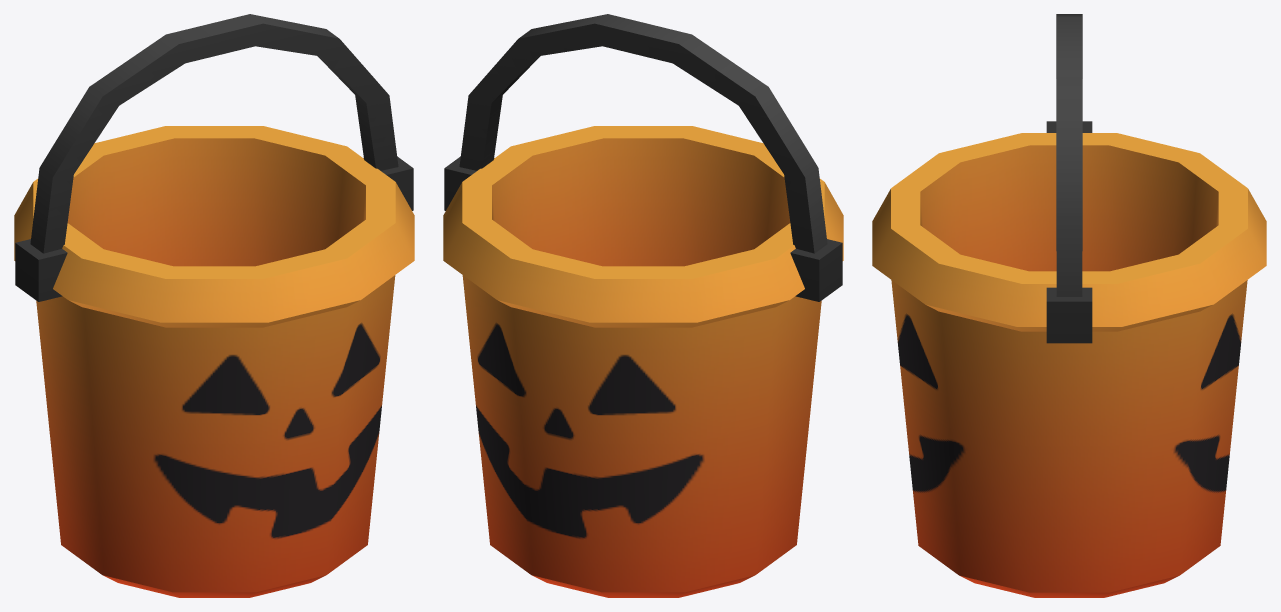
The model's file is candy_bucket_A.gltf.
The picture shows the model from 3 angles, left to right: view 1: azimuth 30°, elevation 25°; view 2: azimuth 150°, elevation 25°; view 3: azimuth 270°, elevation 25°; orthographic projection.
Parts seen in each view (by area): view 1: candy_bucket_A, candy_bucket_A_handle; view 2: candy_bucket_A, candy_bucket_A_handle; view 3: candy_bucket_A, candy_bucket_A_handle.
Boxes of the visible parts, <box> form: candy_bucket_A: <box>14,126,414,597</box>; candy_bucket_A_handle: <box>15,14,413,301</box>; candy_bucket_A: <box>443,126,843,597</box>; candy_bucket_A_handle: <box>444,14,842,301</box>; candy_bucket_A: <box>872,133,1266,597</box>; candy_bucket_A_handle: <box>1046,14,1092,343</box>.
Bounding box in the file's own units: 0.8966 × 1.17 × 0.8286.
Materials: 1 (1 with a texture image).
